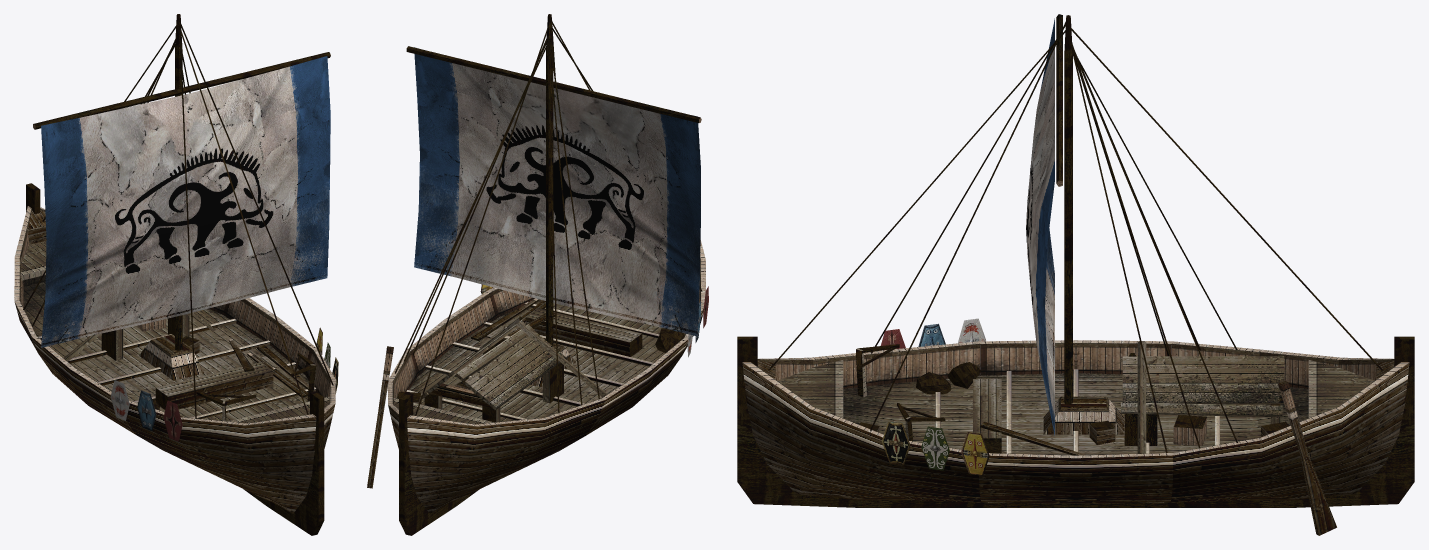
Rendered from iber_trireme.glb.
3 views of the same model, side by side, from view 1: azimuth 30°, elevation 25°; view 2: azimuth 150°, elevation 25°; view 3: azimuth 270°, elevation 25° (orthographic). The views are drawn at different scales.
Parts seen in each view (by area): view 1: iber_trireme_part1, iber_trireme_part0; view 2: iber_trireme_part1, iber_trireme_part0; view 3: iber_trireme_part0, iber_trireme_part1.
Boxes of the visible parts, x1=… form: iber_trireme_part1: x1=41, y1=56, x2=338, y2=441; iber_trireme_part0: x1=14, y1=14, x2=335, y2=535; iber_trireme_part1: x1=414, y1=47, x2=708, y2=357; iber_trireme_part0: x1=367, y1=14, x2=705, y2=535; iber_trireme_part0: x1=737, y1=14, x2=1414, y2=535; iber_trireme_part1: x1=880, y1=18, x2=1054, y2=475.
Size of the model in its own units: 4.07 by 5.59 by 7.
Materials: 2 (2 with a texture image).
